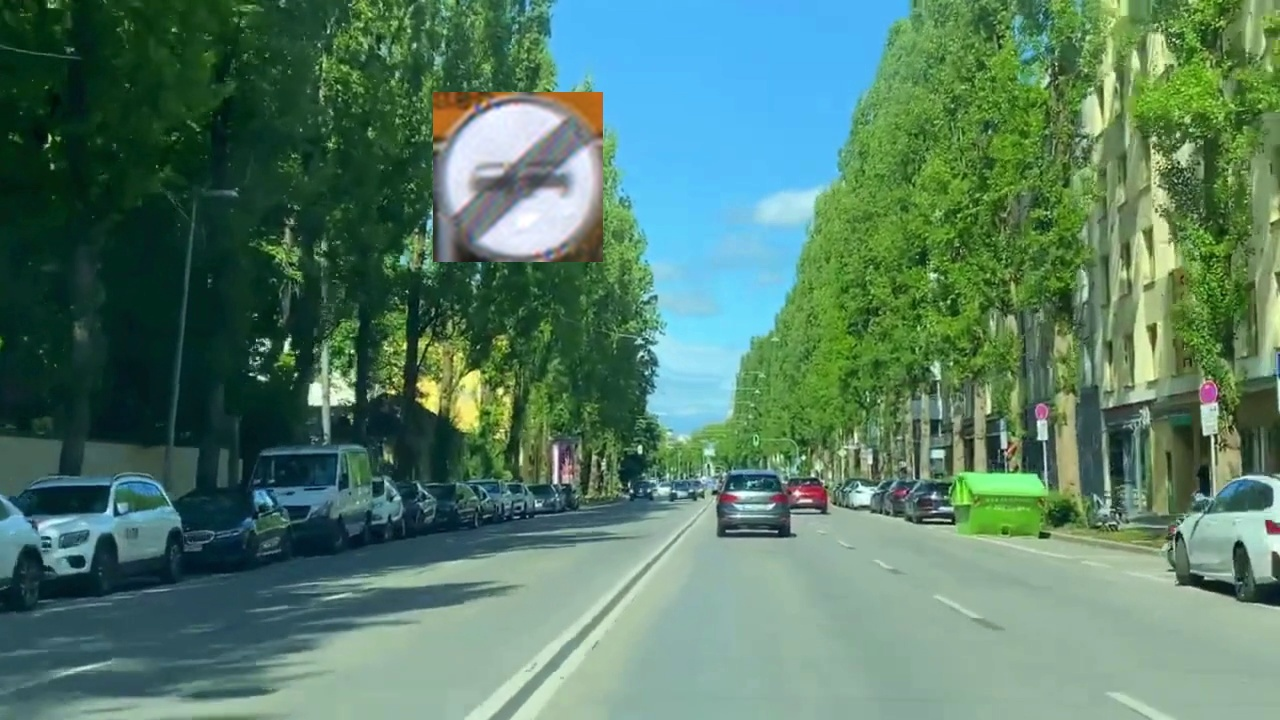End no pass: (433, 92, 603, 262)
